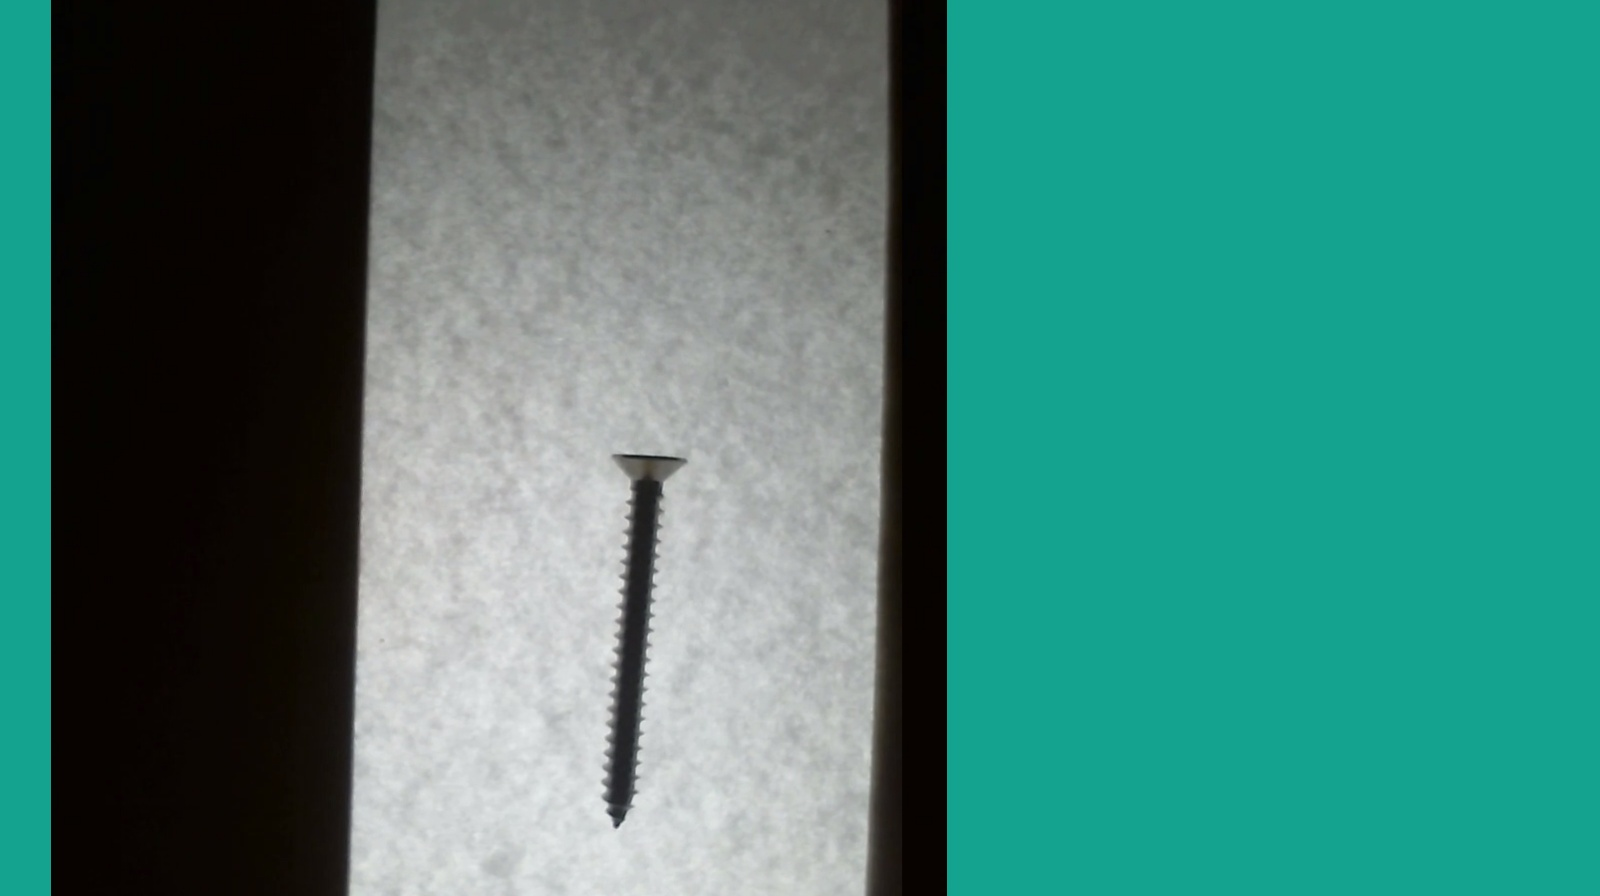S002: (577, 431, 698, 852)
